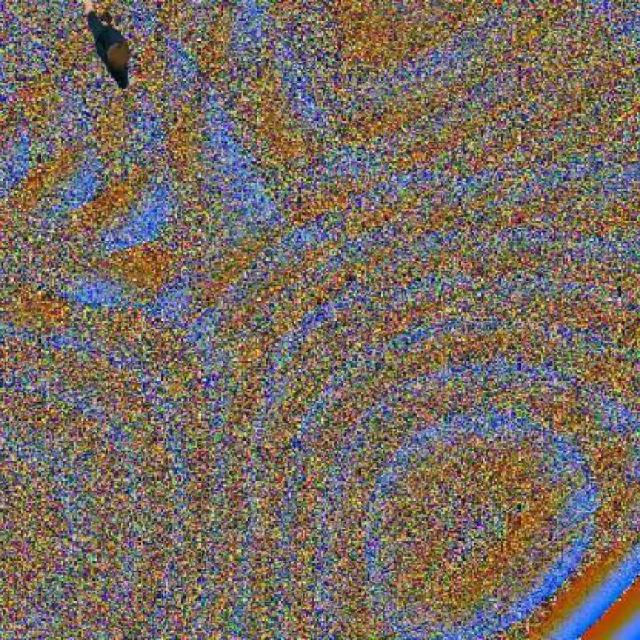Person: (82, 0, 143, 97)
